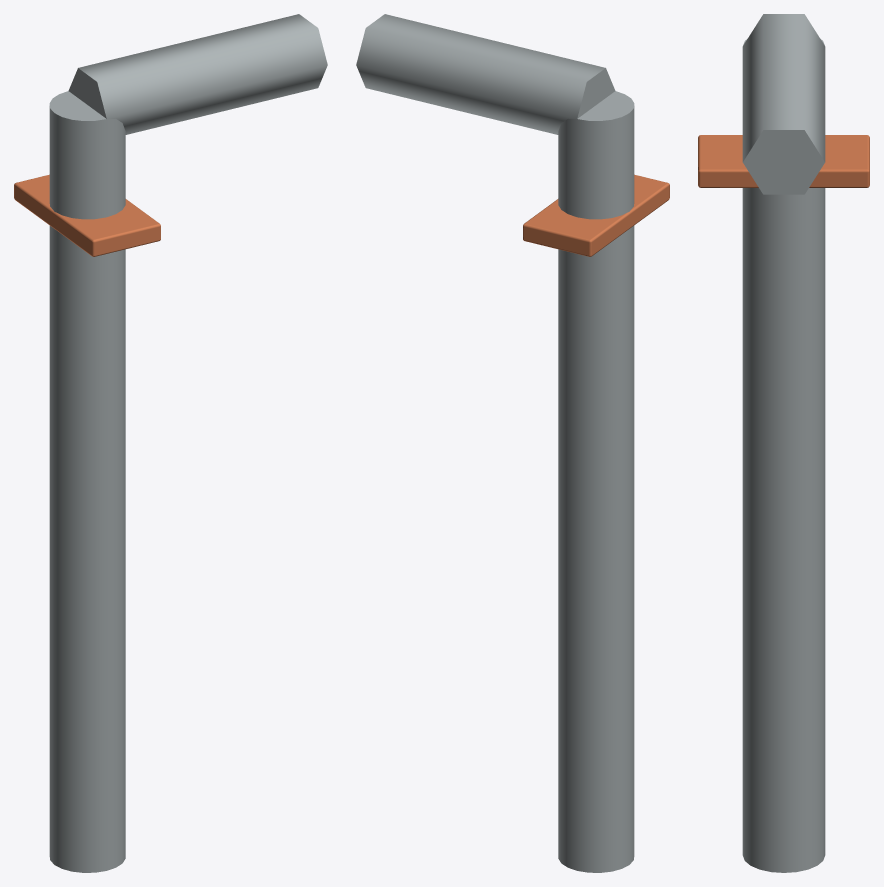
The model's file is wilderness-survival-camp-ground-peg-69d153fa__21964.glb.
3 renders of one model, left to right at view 1: azimuth 30°, elevation 25°; view 2: azimuth 150°, elevation 25°; view 3: azimuth 270°, elevation 25°, orthographic. The views are drawn at different scales.
Visible parts, largest first — view 1: ground-peg; view 2: ground-peg; view 3: ground-peg.
Part boxes in pixels (box(x1,y1,x2,y2)): ground-peg: box(14, 14, 327, 872); ground-peg: box(356, 14, 669, 872); ground-peg: box(698, 14, 869, 872).
Size of the model in its own units: 0.0925 by 0.2704 by 0.05.
